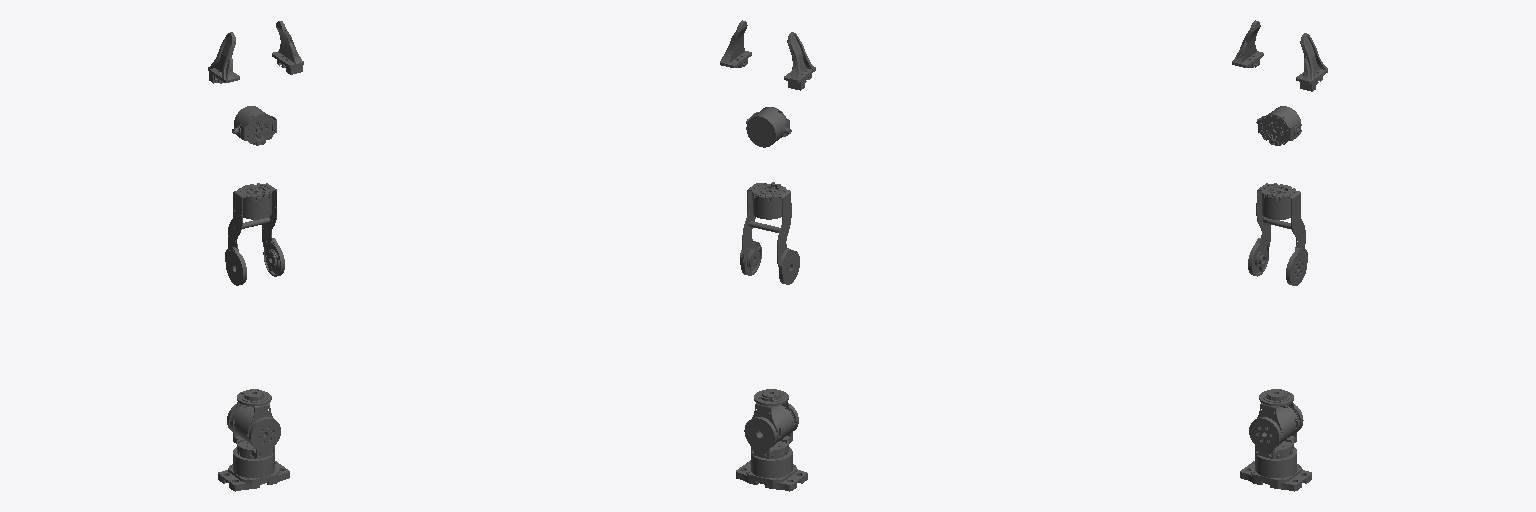
robot.urdf — openarm:
<?xml version="1.0" ?>
<!-- =================================================================================== -->
<!-- |    This document was autogenerated by xacro from openarm.urdf.xacro             | -->
<!-- |    EDITING THIS FILE BY HAND IS NOT RECOMMENDED                                 | -->
<!-- =================================================================================== -->
<robot name="openarm">
  <material name="gray">
    <color rgba="0.4117647058823529 0.4117647058823529 0.4117647058823529 1.0"/>
  </material>
  <material name="dark_gray">
    <color rgba="0.19607843137254902 0.19607843137254902 0.19607843137254902 1.0"/>
  </material>
  <!-- side right, left -->
  <!-- recommended prefixes left_, right_, etc. -->
  <!-- zero_pos up, arm -->
  <ros2_control name="OpenArmHW" type="system">
    <hardware>
      <!-- By default, set up controllers for simulation. This won't work on real hardware -->
      <!-- <plugin>mock_components/GenericSystem</plugin> -->
      <plugin>openarm_hardware/OpenArmHW</plugin>
      <param name="prefix"></param>
      <param name="can_device">can0</param>
    </hardware>
    <joint name="rev1">
      <command_interface name="position"/>
      <command_interface name="velocity"/>
      <command_interface name="effort"/>
      <state_interface name="position"/>
      <state_interface name="velocity"/>
      <state_interface name="effort"/>
    </joint>
    <joint name="rev2">
      <command_interface name="position"/>
      <command_interface name="velocity"/>
      <command_interface name="effort"/>
      <state_interface name="position"/>
      <state_interface name="velocity"/>
      <state_interface name="effort"/>
    </joint>
    <joint name="rev3">
      <command_interface name="position"/>
      <command_interface name="velocity"/>
      <command_interface name="effort"/>
      <state_interface name="position"/>
      <state_interface name="velocity"/>
      <state_interface name="effort"/>
    </joint>
    <joint name="rev4">
      <command_interface name="position"/>
      <command_interface name="velocity"/>
      <command_interface name="effort"/>
      <state_interface name="position"/>
      <state_interface name="velocity"/>
      <state_interface name="effort"/>
    </joint>
    <joint name="rev5">
      <command_interface name="position"/>
      <command_interface name="velocity"/>
      <command_interface name="effort"/>
      <state_interface name="position"/>
      <state_interface name="velocity"/>
      <state_interface name="effort"/>
    </joint>
    <joint name="rev6">
      <command_interface name="position"/>
      <command_interface name="velocity"/>
      <command_interface name="effort"/>
      <state_interface name="position"/>
      <state_interface name="velocity"/>
      <state_interface name="effort"/>
    </joint>
    <joint name="rev7">
      <command_interface name="position"/>
      <command_interface name="velocity"/>
      <command_interface name="effort"/>
      <state_interface name="position"/>
      <state_interface name="velocity"/>
      <state_interface name="effort"/>
    </joint>
    <joint name="left_pris1">
      <command_interface name="position"/>
      <state_interface name="position"/>
      <state_interface name="velocity"/>
    </joint>
    <!-- <joint name="${prefix}right_pris2">
                <state_interface name="position">
                  <param name="initial_value">${initial_positions['right_pris2']}</param>
                </state_interface>
            </joint> -->
  </ros2_control>
  <link name="dummy_link"/>
  <joint name="dummy_joint" type="fixed">
    <parent link="dummy_link"/>
    <child link="link1"/>
  </joint>
  <link name="link1">
    <visual>
      <origin rpy="0 0 0" xyz="0.0 0.0 -0.0007"/>
      <geometry>
        <mesh filename="package://openarm_description/meshes/link1.stl"/>
      </geometry>
      <material name="gray"/>
    </visual>
    <collision>
      <origin rpy="0 0 0" xyz="0.0 0.0 0.0289"/>
      <geometry>
        <box size="0.11 0.073 0.0592"/>
      </geometry>
    </collision>
    <inertial>
      <mass value="0.5769283920617254"/>
      <origin rpy="0 0 0" xyz="0.0 2.52845e-05 0.0229621"/>
      <inertia ixx="0.00034035167574060775" ixy="-2.623557985991217e-18" ixz="-6.093726095527621e-18" iyy="0.0004300058300010205" iyz="-5.09829482074806e-07" izz="0.0004802171432001996"/>
    </inertial>
  </link>
  <link name="link2">
    <visual>
      <origin rpy="0 0 0" xyz="0.0 0.0 -0.05395"/>
      <geometry>
        <mesh filename="package://openarm_description/meshes/link2.stl"/>
      </geometry>
      <material name="gray"/>
    </visual>
    <collision>
      <origin rpy="0 0 0" xyz="0.0 0.0 0.0371236"/>
      <geometry>
        <box size="0.0590000000149012 0.08200000000000002 0.0742471498637348"/>
      </geometry>
    </collision>
    <inertial>
      <mass value="0.16257504134917358"/>
      <origin rpy="0 0 0" xyz="-0.000225878 -0.00183836 0.0278368"/>
      <inertia ixx="0.00023903110213294374" ixy="-7.551692921096027e-08" ixz="-1.1282723362433474e-06" iyy="0.00010490798314778774" iyz="5.9079627839725245e-06" izz="0.00019737368685935776"/>
    </inertial>
  </link>
  <link name="link3">
    <visual>
      <origin rpy="1.5707963267948966 0 0" xyz="0.0 0.0987 0.02975"/>
      <geometry>
        <mesh filename="package://openarm_description/meshes/link3.stl"/>
      </geometry>
      <material name="gray"/>
    </visual>
    <collision>
      <origin rpy="1.5707963267948966 0 0" xyz="-0.0164466 -0.00045542 0.02975"/>
      <geometry>
        <box size="0.08989101803441879 0.06999999999999983 0.05903276947803012"/>
      </geometry>
    </collision>
    <inertial>
      <mass value="0.4201676469910031"/>
      <origin rpy="1.5707963267948966 0 0" xyz="-0.00688022 0.0 0.0282752"/>
      <inertia ixx="0.00020256001126230057" ixy="6.004247875311213e-06" ixz="1.3304903057525575e-06" iyy="0.0002970624991387495" iyz="5.980157765704868e-07" izz="0.00032889994351244413"/>
    </inertial>
  </link>
  <link name="link4">
    <visual>
      <origin rpy="3.141592653589793 -1.5620381439005742 0" xyz="-0.0986962 0.0 0.0621144"/>
      <geometry>
        <mesh filename="package://openarm_description/meshes/link4.stl"/>
      </geometry>
      <material name="gray"/>
    </visual>
    <collision>
      <origin rpy="3.141592653589793 -1.5620381439005742 0" xyz="0.000266276 -0.0125642 -0.132604"/>
      <geometry>
        <box size="0.27584673777150337 0.08211429171582063 0.07186573179325861"/>
      </geometry>
    </collision>
    <inertial>
      <mass value="0.819475539373447"/>
      <origin rpy="3.141592653589793 -1.5620381439005742 0" xyz="0.000781326 -0.0019461 -0.132411"/>
      <inertia ixx="0.00044078452033976287" ixy="6.020023694043618e-05" ixz="0.00014637459261941218" iyy="0.009208791480530413" iyz="1.5469710436444469e-06" izz="0.009170539316023695"/>
    </inertial>
  </link>
  <link name="link5">
    <visual>
      <origin rpy="0 -0.008758182894317394 0" xyz="0.303864 0.0 -0.128451"/>
      <geometry>
        <mesh filename="package://openarm_description/meshes/link5.stl"/>
      </geometry>
      <material name="gray"/>
    </visual>
    <collision>
      <origin rpy="0 -0.008758182894316818 0" xyz="-0.0542814 0.00265291 -0.0302022"/>
      <geometry>
        <box size="0.16827213220625828 0.06430555048399171 0.08257859967140947"/>
      </geometry>
    </collision>
    <inertial>
      <mass value="0.4086748254352304"/>
      <origin rpy="0 -0.008758182894316905 0" xyz="-0.0831891 0.00251789 -0.0290107"/>
      <inertia ixx="0.00031417157425298747" ixy="-1.1391566029536723e-05" ixz="-1.883474090056124e-05" iyy="0.001221711435313989" iyz="1.46725418421127e-06" izz="0.0010755135067660488"/>
    </inertial>
  </link>
  <link name="link6">
    <visual>
      <origin rpy="-2.1276679791326423 -1.5542266826921929 0" xyz="-0.0485412 -0.0860404 0.437784"/>
      <geometry>
        <mesh filename="package://openarm_description/meshes/link6_rightarm.stl"/>
      </geometry>
      <material name="gray"/>
    </visual>
    <collision>
      <origin rpy="-2.127667979132636 -1.5542266826921927 0" xyz="-0.00260794 -0.00312921 -0.0652641"/>
      <geometry>
        <box size="0.13114353004704765 0.05953478325301745 0.08817196195081879"/>
      </geometry>
    </collision>
    <inertial>
      <mass value="0.3448471958049249"/>
      <origin rpy="-2.127667979132636 -1.5542266826921927 0" xyz="-0.00898536 -0.0135065 -0.0438611"/>
      <inertia ixx="0.00019355980999748924" ixy="-1.0061665815148114e-06" ixz="-3.9096495715032716e-05" iyy="0.0003486912031865755" iyz="6.088060315273385e-06" izz="0.00028774975153756256"/>
    </inertial>
  </link>
  <link name="link7">
    <visual>
      <origin rpy="0 -0.008758182894510852 0" xyz="0.558839 -0.00358671 -0.0631962"/>
      <geometry>
        <mesh filename="package://openarm_description/meshes/link7_rightarm.stl"/>
      </geometry>
      <material name="gray"/>
    </visual>
    <collision>
      <origin rpy="0 -0.008758182894511114 0" xyz="-0.000318103 0.0022839 0.0340014"/>
      <geometry>
        <box size="0.058327402175132874 0.04432916698753661 0.08267601622411752"/>
      </geometry>
    </collision>
    <inertial>
      <mass value="0.2782138078738053"/>
      <origin rpy="0 -0.008758182894511043 0" xyz="5.99432e-05 0.0041433 0.0354274"/>
      <inertia ixx="0.00010424153315648891" ixy="2.735265831785291e-07" ixz="-1.0662322382945994e-07" iyy="0.00012313550743283462" iyz="-8.604996754782856e-08" izz="9.221319958512582e-05"/>
    </inertial>
  </link>
  <link name="link8">
    <visual>
      <origin rpy="1.5709195259578714 -0.014065461951077267 0" xyz="0.557948 0.103587 0.019724"/>
      <geometry>
        <mesh filename="package://openarm_description/meshes/link8.stl"/>
      </geometry>
      <material name="gray"/>
    </visual>
    <collision>
      <origin rpy="1.5709195259578714 -0.01406546195107726 0" xyz="-0.042694 -0.000543176 0.0110286"/>
      <geometry>
        <box size="0.13038799671743653 0.05180887692688926 0.1601236763440867"/>
      </geometry>
    </collision>
    <inertial>
      <mass value="0.31261452743802165"/>
      <origin rpy="1.5709195259578714 -0.01406546195107726 0" xyz="-0.0607602 -0.000341696 0.00876618"/>
      <inertia ixx="0.00023465661366788053" ixy="7.609048882006294e-05" ixz="3.088694121124684e-07" iyy="0.0005065459365215377" iyz="1.9022818028658623e-07" izz="0.0003737029250058136"/>
    </inertial>
  </link>
  <link name="gripper_center"/>
  <link name="link_left_jaw">
    <visual>
      <origin rpy="0 -0.008758182894469432 0" xyz="0.665265 -0.00286677 -0.0209282"/>
      <geometry>
        <mesh filename="package://openarm_description/meshes/left_jaw.stl"/>
      </geometry>
      <material name="gray"/>
    </visual>
    <collision>
      <origin rpy="0 -0.0087581828944695 0" xyz="0.665265 -0.00286677 -0.0209282"/>
      <geometry>
        <mesh filename="package://openarm_description/meshes/left_jaw.stl"/>
      </geometry>
    </collision>
    <inertial>
      <mass value="0.04297897856394934"/>
      <origin rpy="0 -0.008758182894469429 0" xyz="-0.0187138 0.00217075 0.0159499"/>
      <inertia ixx="1.1771768742932353e-05" ixy="-2.389928166589898e-06" ixz="3.999292204534159e-06" iyy="2.3837354480794824e-05" iyz="3.494431877242991e-07" izz="3.0474590214086944e-05"/>
    </inertial>
  </link>
  <link name="link_right_jaw">
    <visual>
      <origin rpy="0 -0.008758182898001485 0" xyz="0.665265 -0.00286677 -0.175928"/>
      <geometry>
        <mesh filename="package://openarm_description/meshes/right_jaw.stl"/>
      </geometry>
      <material name="gray"/>
    </visual>
    <collision>
      <origin rpy="0 -0.008758182898001553 0" xyz="0.665265 -0.00286677 -0.175928"/>
      <geometry>
        <mesh filename="package://openarm_description/meshes/right_jaw.stl"/>
      </geometry>
    </collision>
    <inertial>
      <mass value="0.042981665301134515"/>
      <origin rpy="0 -0.00875818289800148 0" xyz="-0.0187844 -0.00272415 -0.0159503"/>
      <inertia ixx="1.1561293087621594e-05" ixy="2.537718468008212e-06" ixz="-3.6591812257702003e-06" iyy="2.370165527871047e-05" iyz="4.848038235889027e-07" izz="3.039652946542647e-05"/>
    </inertial>
  </link>
  <joint name="rev1" type="revolute">
    <parent link="link1"/>
    <child link="link2"/>
    <origin rpy="0 0 0" xyz="0.0 0.0 0.05325"/>
    <axis xyz="0 0 1"/>
    <limit effort="0.0" lower="-2.0943951023931953" upper="2.0943951023931953" velocity="0.0"/>
  </joint>
  <joint name="rev2" type="revolute">
    <parent link="link2"/>
    <child link="link3"/>
    <origin rpy="-1.5707963267948968 1.5707963267948966 0.0" xyz="0.0 -0.02975 0.04475"/>
    <axis xyz="0 0 1"/>
    <limit effort="0.0" lower="-1.5707963267948966" upper="1.5707963267948966" velocity="0.0"/>
  </joint>
  <joint name="rev3" type="revolute">
    <parent link="link3"/>
    <child link="link4"/>
    <origin rpy="-1.5707963267949054 0 -1.562038143900564" xyz="-0.0612477 -0.000536432 0.02975"/>
    <axis xyz="0 0 -1"/>
    <limit effort="0.0" lower="-0.52359" upper="3.66519" velocity="0.0"/>
  </joint>
  <joint name="rev4" type="revolute">
    <parent link="link4"/>
    <child link="link5"/>
    <origin rpy="-0.20701608758495998 -1.5707963267948566 -2.937419385117548" xyz="0.0297547 0.0 -0.24175"/>
    <axis xyz="0 0 1"/>
    <limit effort="0.0" lower="-0.3490658503988659" upper="2.792526803190927" velocity="0.0"/>
  </joint>
  <joint name="rev5" type="revolute">
    <parent link="link5"/>
    <child link="link6"/>
    <origin rpy="1.5707963267948473 -0.5569332500492129 1.556730325338251" xyz="-0.133937 0.00188408 -0.0297547"/>
    <axis xyz="0 0 -1"/>
    <limit effort="0.0" lower="-2.0943951023931953" upper="2.0943951023931953" velocity="0.0"/>
  </joint>
  <joint name="rev6" type="revolute">
    <parent link="link6"/>
    <child link="link7"/>
    <origin rpy="-1.5707963268024898 -1.5567303253382425 -0.5569332500461536" xyz="-0.0187648 -0.0301352 -0.12105"/>
    <axis xyz="0 0 1"/>
    <limit effort="0.0" lower="-1.5707963267948966" upper="1.5707963267948966" velocity="0.0"/>
  </joint>
  <joint name="rev7" type="revolute">
    <parent link="link7"/>
    <child link="link8"/>
    <origin rpy="-1.5707963267950005 -0.00875904933536772 -0.014066001454933467" xyz="-0.000217313 -0.0154485 0.0355"/>
    <axis xyz="0 0 -1"/>
    <limit effort="0.0" lower="-0.9599310885968813" upper="0.9599310885968813" velocity="0.0"/>
  </joint>
  <joint name="left_pris1" type="prismatic">
    <parent link="link8"/>
    <child link="link_left_jaw"/>
    <origin rpy="1.570796326795101 -0.014066001454929162 0.00875904933542146" xyz="-0.1071 0.0768568 0.0132053"/>
    <axis xyz="0 0 -1"/>
    <limit effort="0.0" lower="-0.0451" upper="0.0" velocity="0.1"/>
  </joint>
  <joint name="right_pris2" type="prismatic">
    <parent link="link8"/>
    <child link="link_right_jaw"/>
    <origin rpy="1.570796326794883 -0.014066001454927403 0.008759049336290027" xyz="-0.10571 -0.0781373 0.0132053"/>
    <axis xyz="0 0 -1"/>
    <limit effort="0.0" lower="-0.0451" upper="0.0" velocity="0.0"/>
    <mimic joint="left_pris1" multiplier="-1.0" offset="0.0"/>
  </joint>
  <joint name="virtual_gripper_center" type="fixed">
    <parent link="link8"/>
    <child link="gripper_center"/>
    <origin rpy="0 0 0" xyz="-0.13 0.00 0.0132053"/>
  </joint>
</robot>

--- What the picture shows (computed from the rendered views, not written in the file) ---
3 views of the same robot in one strip: view 1: azimuth 30°, elevation 25°; view 2: azimuth 150°, elevation 25°; view 3: azimuth 330°, elevation 25° (orthographic).
Robot: openarm — 12 links, 11 joints (7 revolute, 2 prismatic, 2 fixed); root link dummy_link; default pose: all joints at 0.
Links seen in each view (by area): view 1: link5, link1, link2, link3, link7, link_left_jaw, link_right_jaw; view 2: link5, link1, link2, link3, link7, link_left_jaw, link_right_jaw; view 3: link5, link1, link2, link3, link7, link_right_jaw, link_left_jaw.
Link boxes in pixels (x1,y1,x2,y2): link5: [225, 183, 284, 285]; link1: [218, 447, 289, 491]; link2: [227, 404, 280, 458]; link3: [230, 389, 273, 442]; link7: [232, 106, 276, 145]; link_left_jaw: [208, 32, 239, 83]; link_right_jaw: [272, 21, 303, 74]; link5: [740, 182, 799, 284]; link1: [736, 447, 807, 491]; link2: [744, 404, 798, 458]; link3: [752, 389, 795, 443]; link7: [746, 107, 791, 147]; link_left_jaw: [784, 32, 815, 90]; link_right_jaw: [720, 20, 751, 67]; link5: [1248, 183, 1307, 285]; link1: [1240, 447, 1311, 491]; link2: [1249, 404, 1303, 458]; link3: [1257, 389, 1299, 443]; link7: [1256, 106, 1301, 145]; link_right_jaw: [1296, 33, 1327, 91]; link_left_jaw: [1232, 20, 1263, 67].
Size in the robot's own frame: 0.1552 by 0.082 by 0.843 metres.
Meshes: 10 distinct files referenced, 7 mesh visuals loaded (7 binary STL); not drawn: 3 (reference not matched to a file when rendering).
